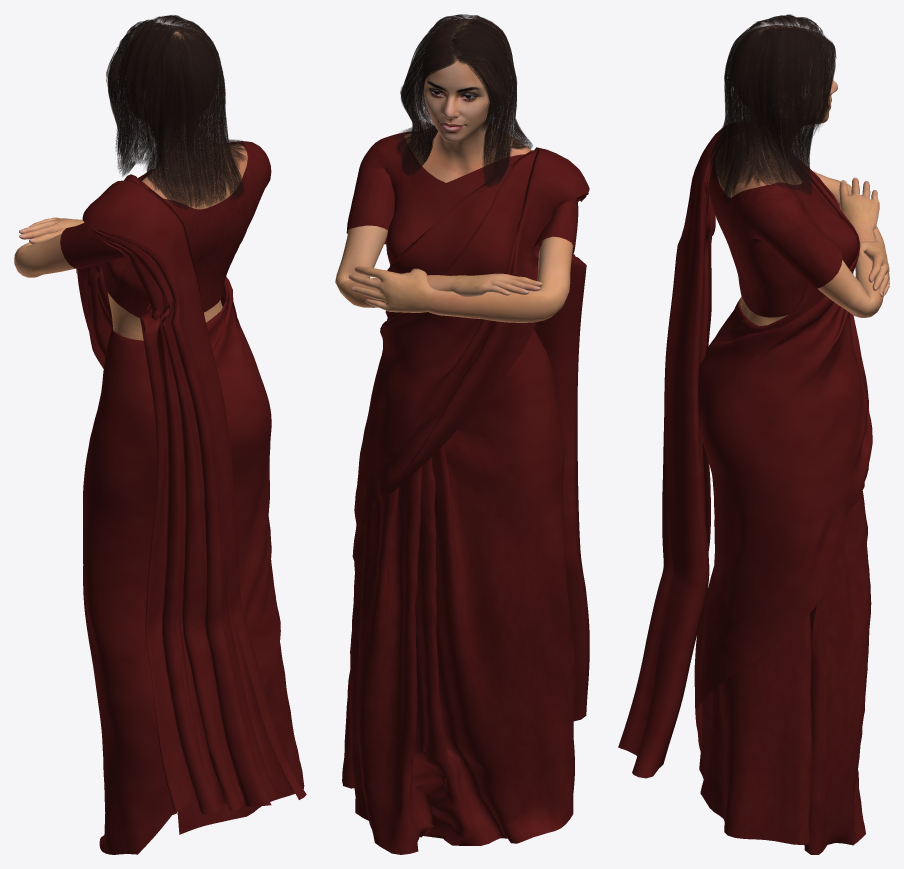
The model's file is ManDrinking_Wife.gltf.
3 views of the same model, side by side, from view 1: azimuth 30°, elevation 25°; view 2: azimuth 150°, elevation 25°; view 3: azimuth 270°, elevation 25° (orthographic).
Visible parts, largest first — view 1: Object_17.001, Object_16, Object_7.001, Object_9.006; view 2: Object_17.001, Object_7.001, Object_16, Object_9.006; view 3: Object_17.001, Object_16, Object_7.001, Object_9.006.
Part boxes in pixels (bbox=[...]): Object_17.001: bbox=[60, 141, 306, 854]; Object_16: bbox=[106, 15, 247, 210]; Object_7.001: bbox=[14, 144, 247, 340]; Object_9.006: bbox=[137, 24, 244, 202]; Object_17.001: bbox=[342, 131, 589, 854]; Object_7.001: bbox=[335, 133, 573, 322]; Object_16: bbox=[394, 14, 532, 187]; Object_9.006: bbox=[410, 18, 529, 182]; Object_17.001: bbox=[618, 127, 872, 854]; Object_16: bbox=[709, 14, 836, 205]; Object_7.001: bbox=[716, 149, 889, 325]; Object_9.006: bbox=[718, 25, 837, 191].
Size of the model in its own units: 4.47 by 14.49 by 4.47.
Materials: 7 (6 with a texture image).
